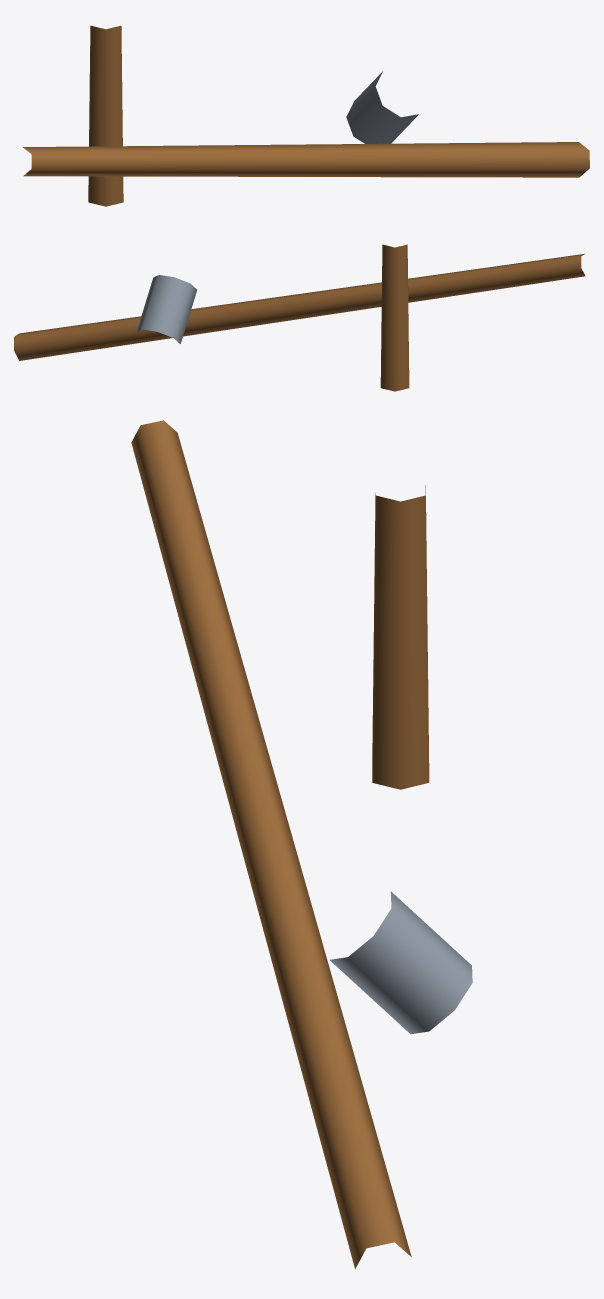
Rendered from power-pole-wreck.glb.
3 renders of one model, top to bottom at view 1: azimuth 30°, elevation 25°; view 2: azimuth 150°, elevation 25°; view 3: azimuth 270°, elevation 25°, orthographic. The views are drawn at different scales.
Visible parts, largest first — view 1: Root; view 2: Root; view 3: Root.
Boxes of the visible parts, bbox=[...] form: Root: bbox=[23, 25, 589, 206]; Root: bbox=[14, 244, 585, 391]; Root: bbox=[131, 420, 472, 1268].
Bounding box in the file's own units: 9.06 × 3.58 × 2.59.
